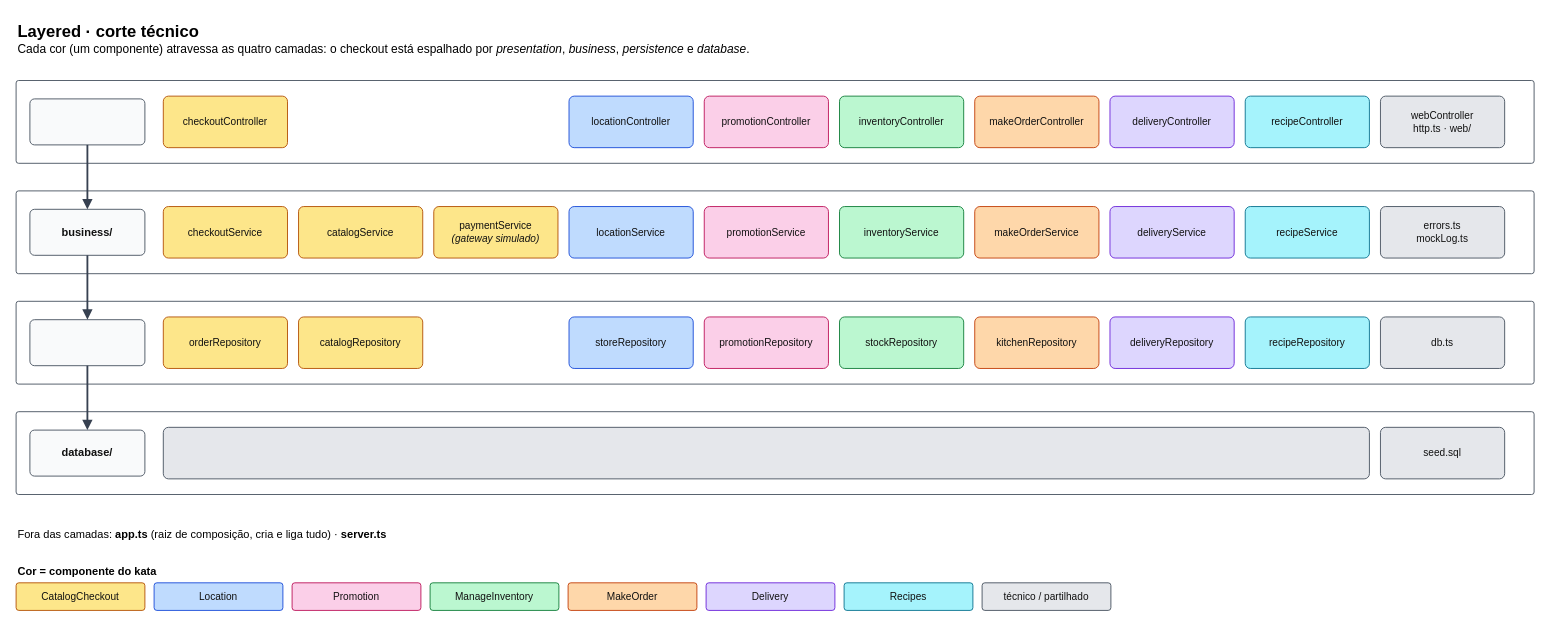
This 1550x627 diagram has some shape labels left out. Here are the shapes that lost their labels. From the top down, the centre of each, then its label:
pixel 87 121: presentation/
pixel 87 342: persistence/
pixel 765 452: schema.sql · um só esquema com as 15 tabelas de todos os componentes
